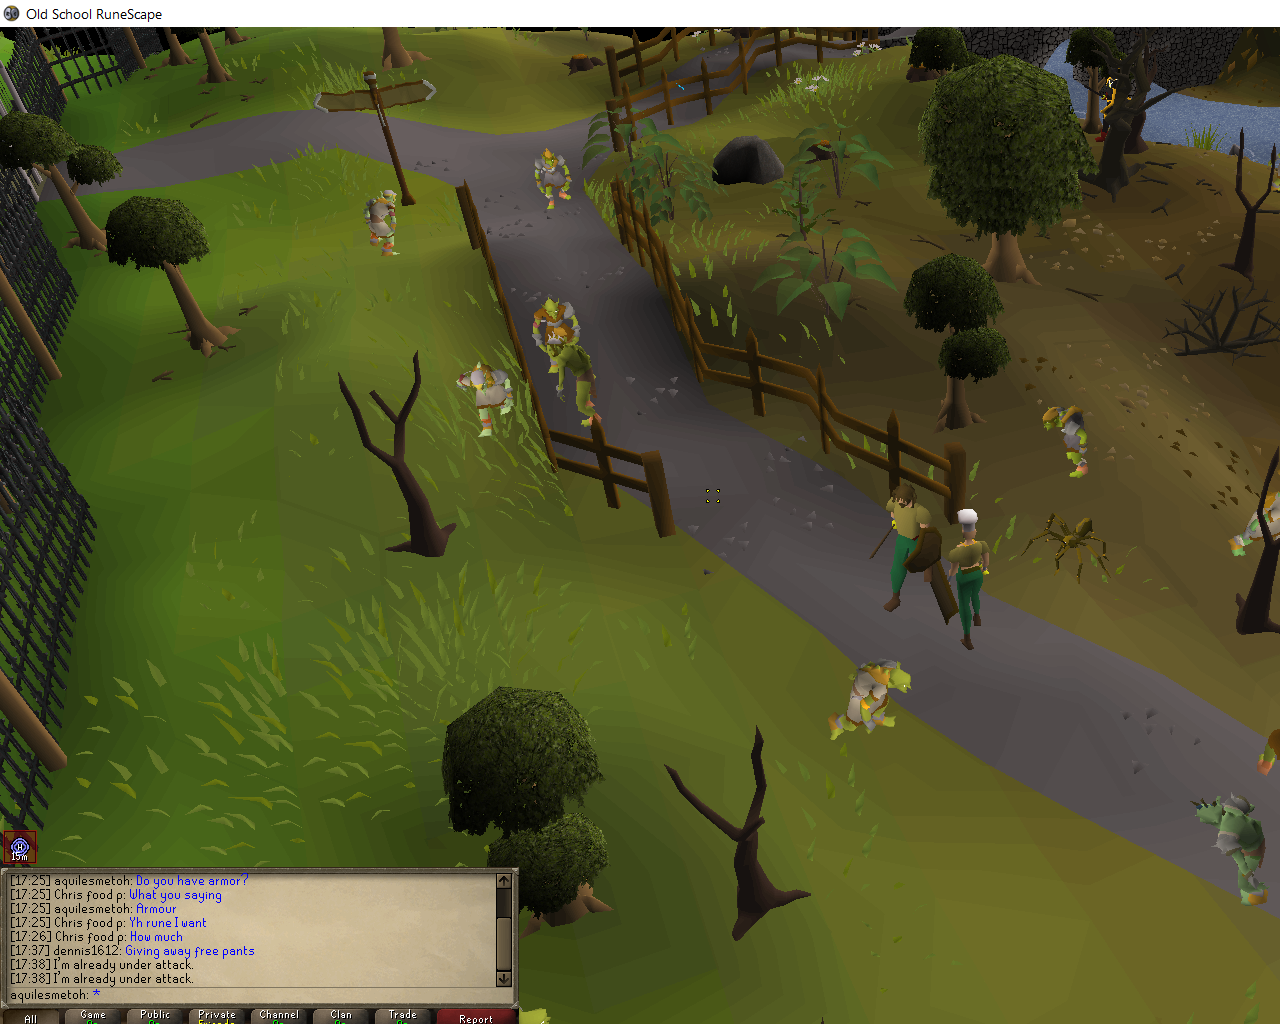Goblin: (1190, 794, 1271, 907), (828, 656, 912, 742), (544, 334, 609, 428), (451, 362, 523, 439), (530, 297, 584, 375), (1042, 402, 1092, 480), (1229, 485, 1280, 559), (362, 188, 403, 260), (532, 148, 579, 210)
